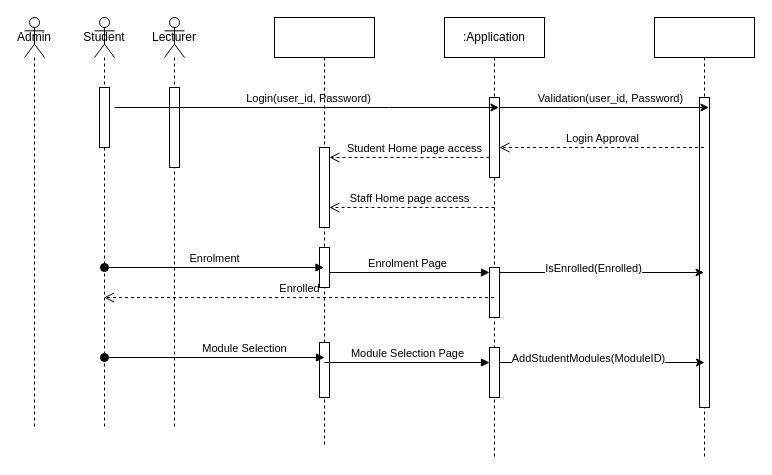
Image size: 772x475. Some labels were removed from this diagram. The shapes that lost their labels are listed below. From the top down, each one's box as (x1, y1, x2, y2) in pixels, then its label:
(274, 16, 374, 448): Home Page
(654, 16, 754, 458): :Database
